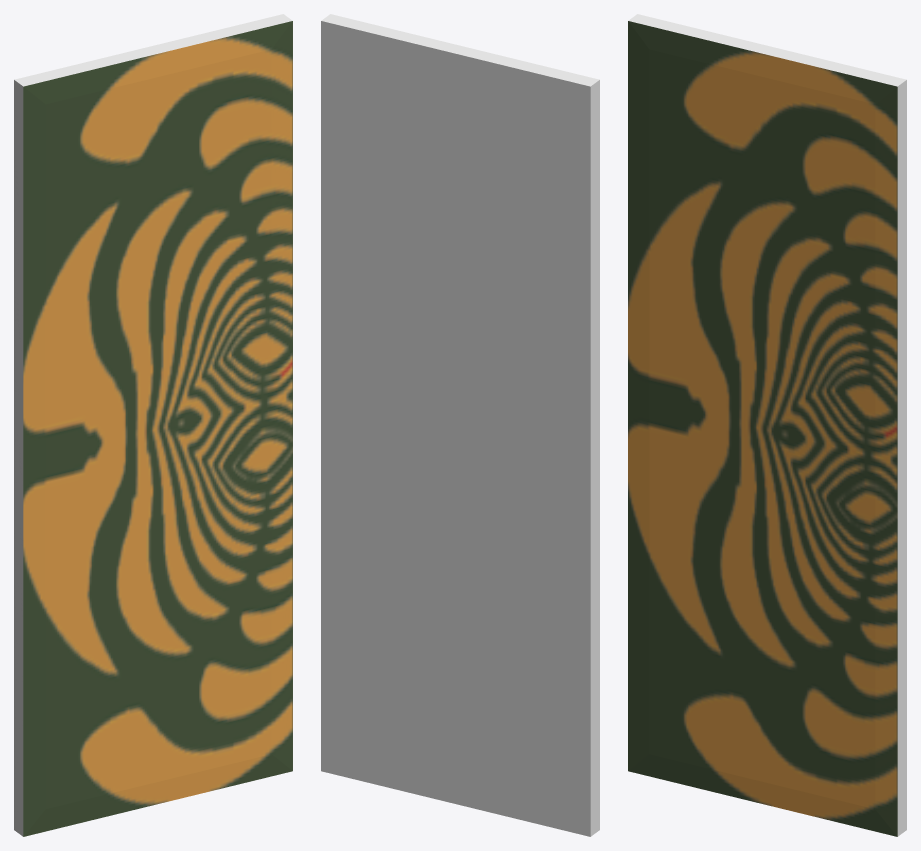
The model's file is Picture_Rec_01_D.FBX.
3 renders of one model, left to right at view 1: azimuth 30°, elevation 25°; view 2: azimuth 150°, elevation 25°; view 3: azimuth 330°, elevation 25°, orthographic.
Visible parts, largest first — view 1: Rectangle_Picture; view 2: Rectangle_Picture; view 3: Rectangle_Picture.
Boxes of the visible parts, left/top/right/bottom form: Rectangle_Picture: left=14, top=14, right=292, bottom=836; Rectangle_Picture: left=321, top=14, right=599, bottom=836; Rectangle_Picture: left=628, top=14, right=906, bottom=836.
Size of the model in its own units: 66.19 by 176 by 4.21.
